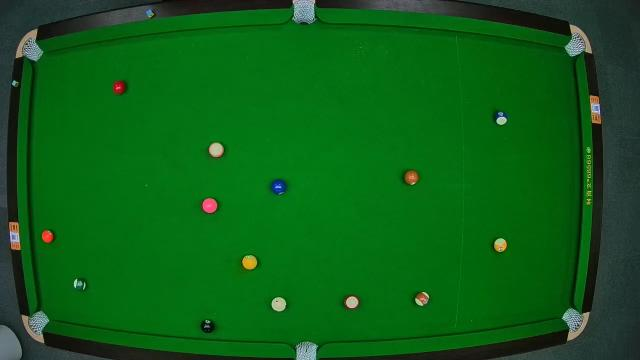bag1: (21, 40, 39, 60)
bag2: (292, 3, 316, 26)
bag3: (566, 34, 584, 54)
bag4: (29, 310, 47, 332)
bag5: (294, 340, 318, 360)
bag6: (562, 308, 582, 330)
ball0: (271, 296, 287, 312)
ball1: (242, 255, 258, 271)
ball10: (494, 110, 508, 126)
ball11: (344, 294, 360, 310)
ball12: (208, 142, 225, 158)
ball14: (72, 277, 88, 291)
ball15: (414, 292, 430, 307)
ball2: (270, 179, 286, 195)
ball3: (112, 81, 126, 95)
ball4: (202, 198, 218, 214)
ball5: (42, 230, 54, 244)
ball7: (406, 170, 418, 186)
ball8: (200, 318, 216, 334)
ball9: (493, 238, 507, 254)
